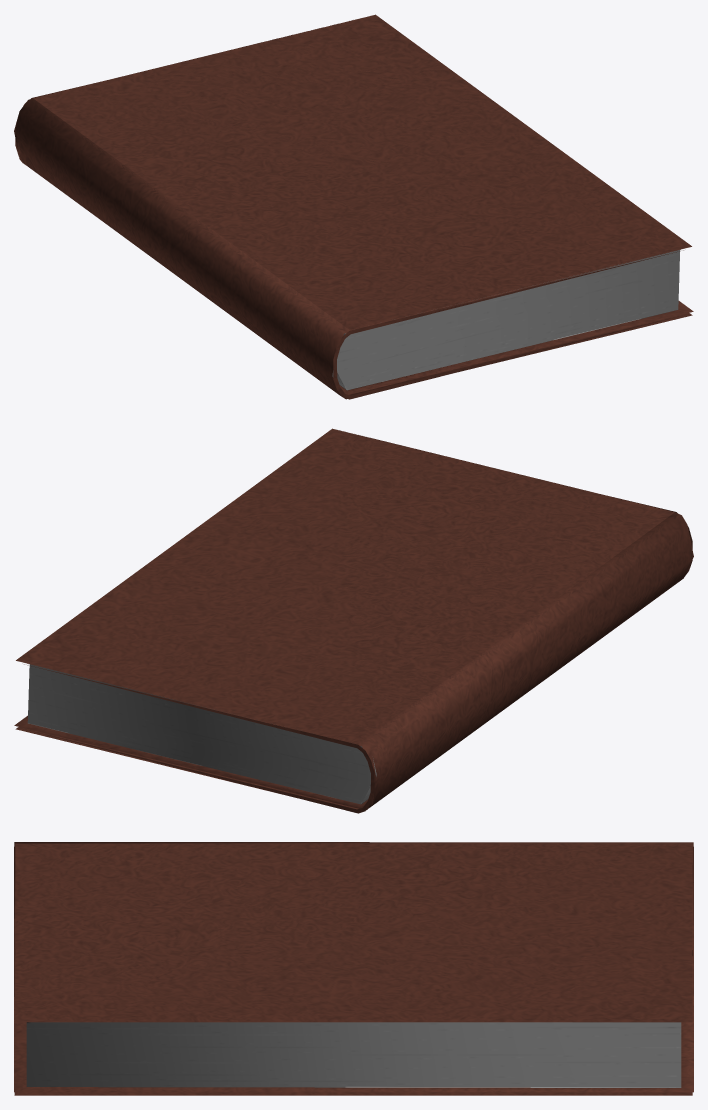
3 renders of one model, top to bottom at view 1: azimuth 30°, elevation 25°; view 2: azimuth 150°, elevation 25°; view 3: azimuth 270°, elevation 25°, orthographic. The views are drawn at different scales.
Visible parts, largest first — view 1: Cube, Cube.001; view 2: Cube, Cube.001; view 3: Cube, Cube.001.
Part boxes in pixels (x1,y1,x2,y2): Cube: (14, 14, 693, 399); Cube.001: (332, 250, 680, 390); Cube: (14, 428, 693, 813); Cube.001: (27, 664, 376, 804); Cube: (14, 842, 693, 1095); Cube.001: (26, 1022, 681, 1087).
Size of the model in its own units: 105 by 19.08 by 160.
2 materials, 2 textured.
